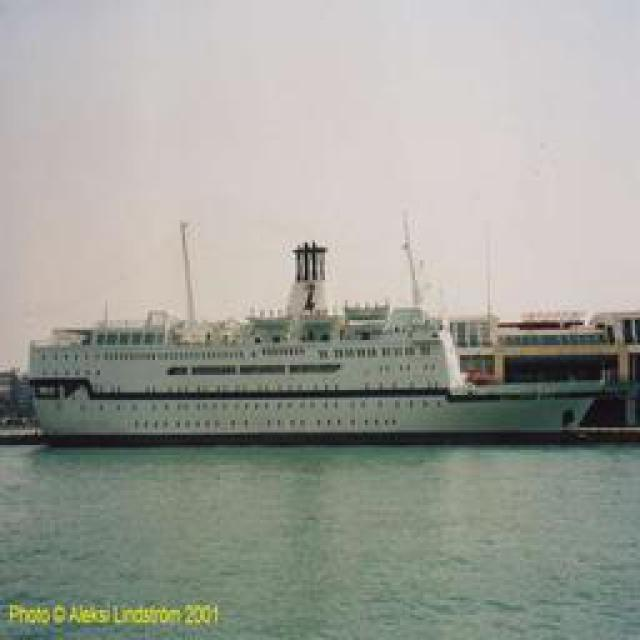Ship: (16, 294, 634, 447)
